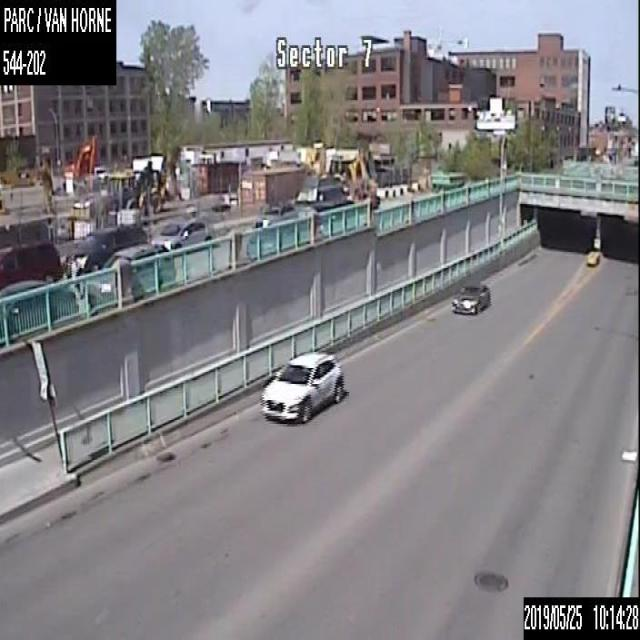vehicle: (86, 243, 175, 309), (260, 351, 343, 420), (0, 277, 77, 343), (65, 222, 145, 282), (0, 239, 63, 288), (247, 216, 301, 260), (151, 217, 211, 252), (255, 199, 300, 229), (451, 279, 490, 313)
